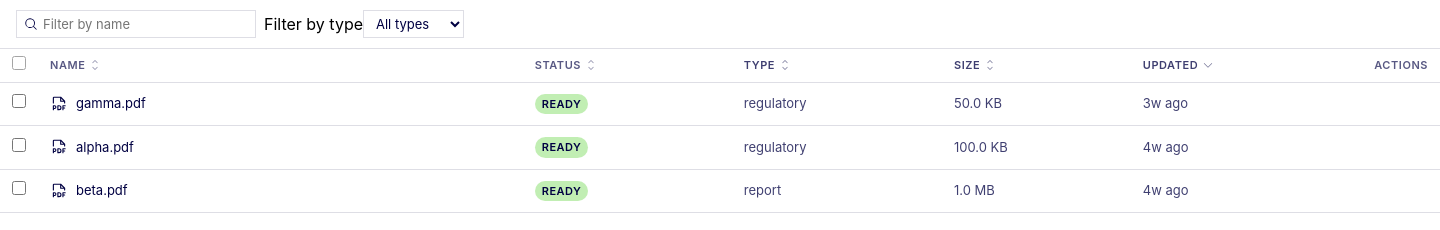
Test: FileList › filters by type via the dropdown
Expected: the text "alpha.pdf" is shown, [76, 138, 134, 157]
Select "report" in the dropdown labelled "Filter by type": (414, 24) [363, 10, 464, 38]
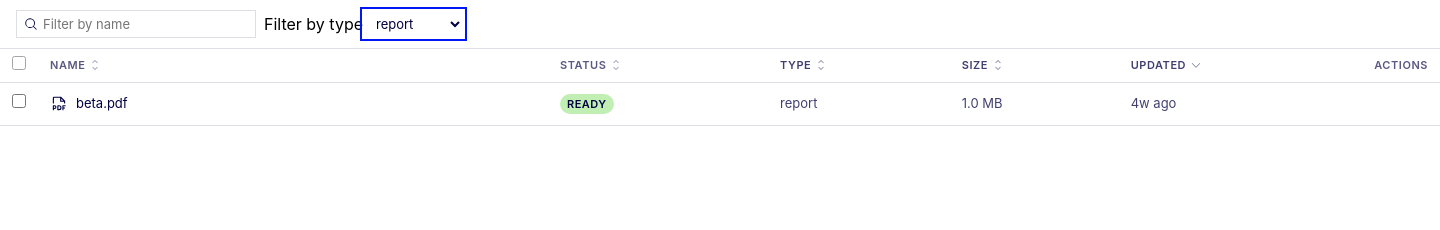
Expected: the text "beta.pdf" is shown, [76, 94, 128, 114]
Expected: the text "alpha.pdf" is gone
Expected: the text "gamma.pdf" is gone
